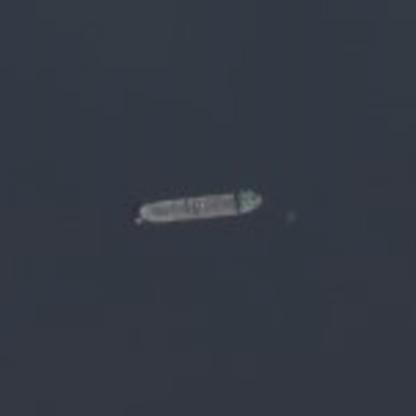ship: (125, 179, 271, 236)
